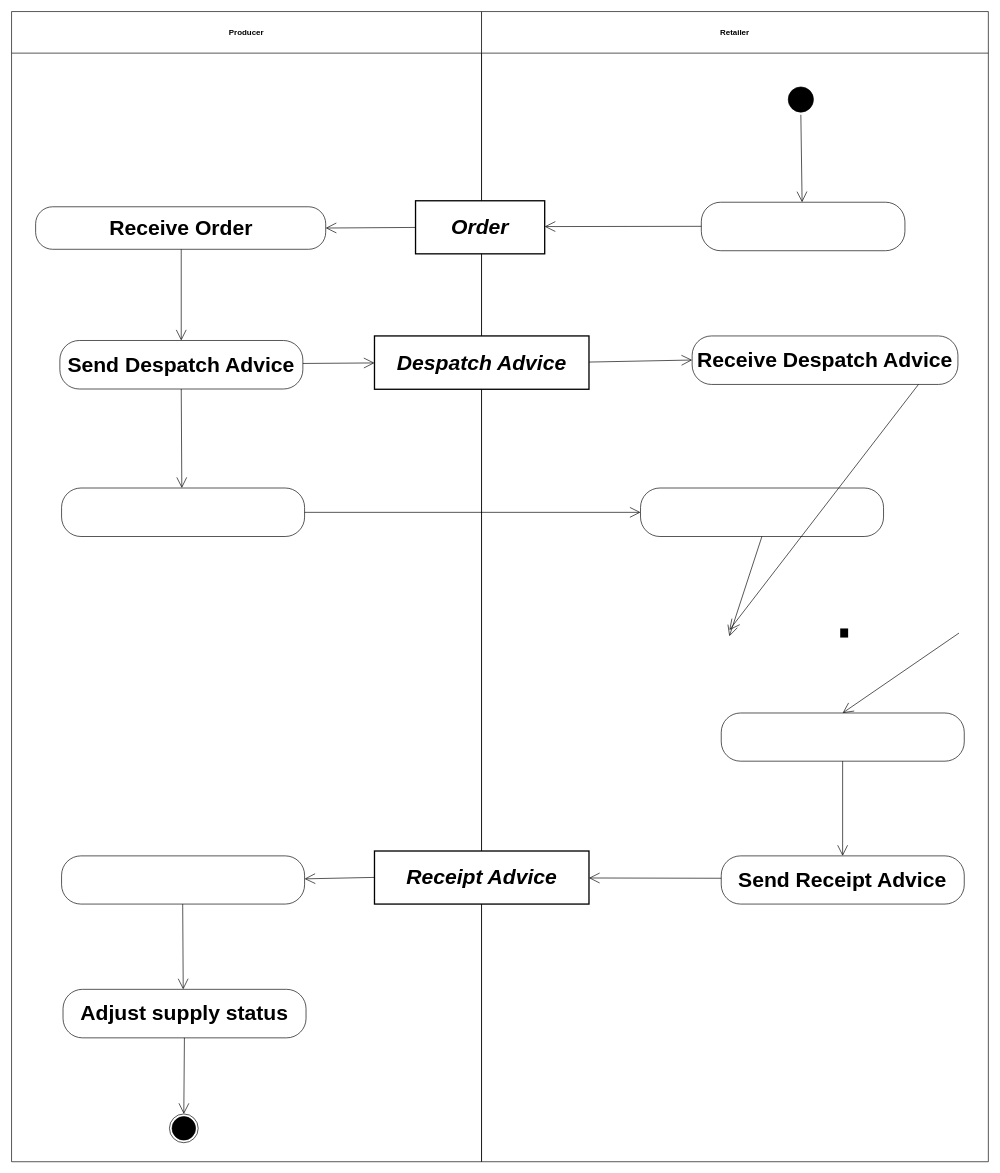
Image size: 1000x1173. Some labels were removed from this diagram. The centre of each missing label's shape, as x and y in pixels:
"Check status of item(s)" belongs at (842,736).
"Despatch order item(s)" belongs at (183,512).
"Receive order item(s)" belongs at (762,512).
"Receive Receipt Advice" belongs at (183,879).
"Send Order" belongs at (803,226).
